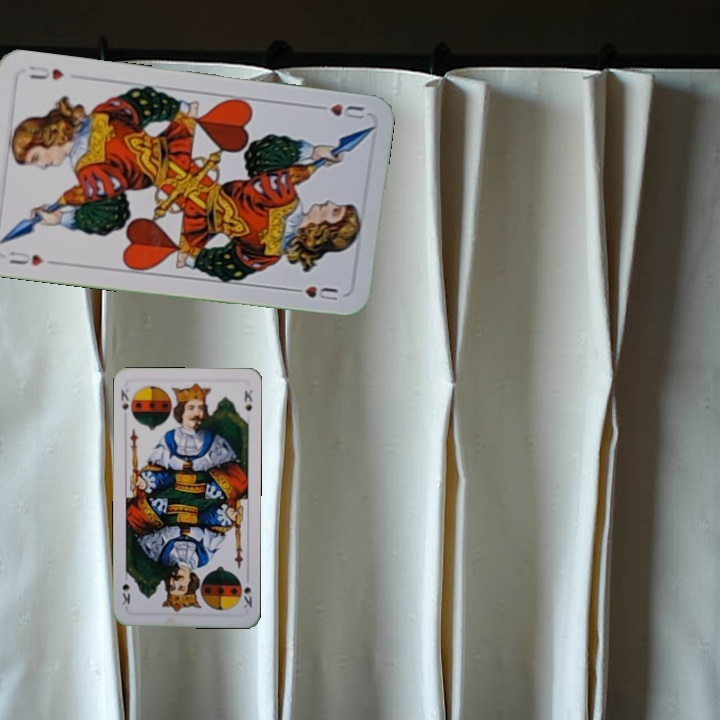HU: (310, 100, 367, 122), (4, 246, 58, 269)
SK: (239, 571, 254, 611), (117, 385, 131, 413)
